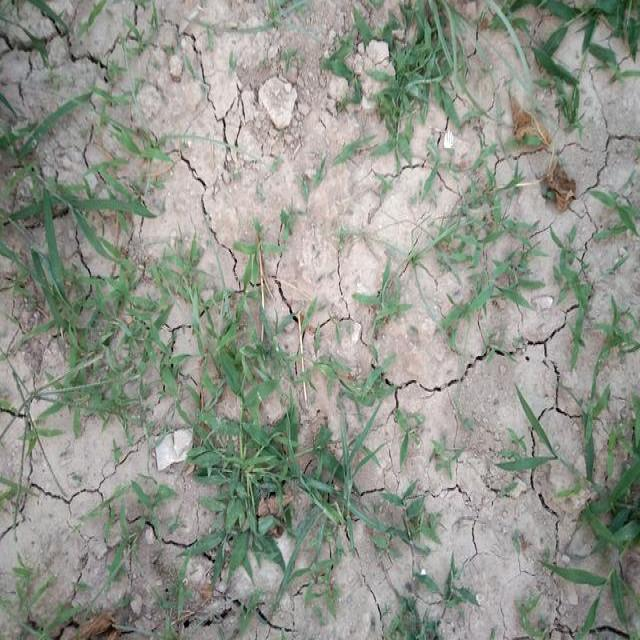weed: (8, 75, 193, 400), (519, 377, 639, 640), (205, 316, 298, 599), (314, 351, 384, 623), (358, 479, 470, 640), (374, 0, 471, 157), (534, 0, 640, 105), (548, 238, 634, 367), (448, 191, 532, 321), (215, 239, 302, 303), (354, 281, 395, 346), (596, 184, 640, 222)
